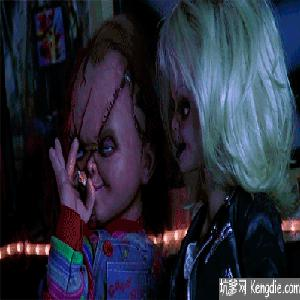cigarette: (76, 171, 87, 185)
